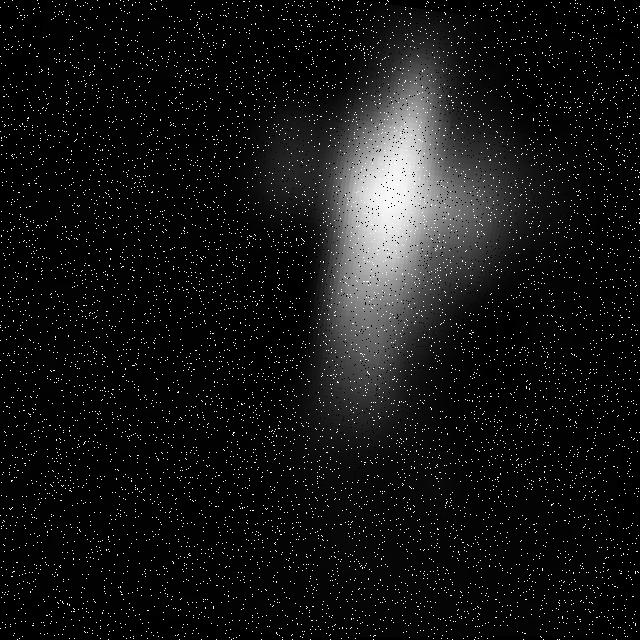person: (248, 19, 551, 464)
